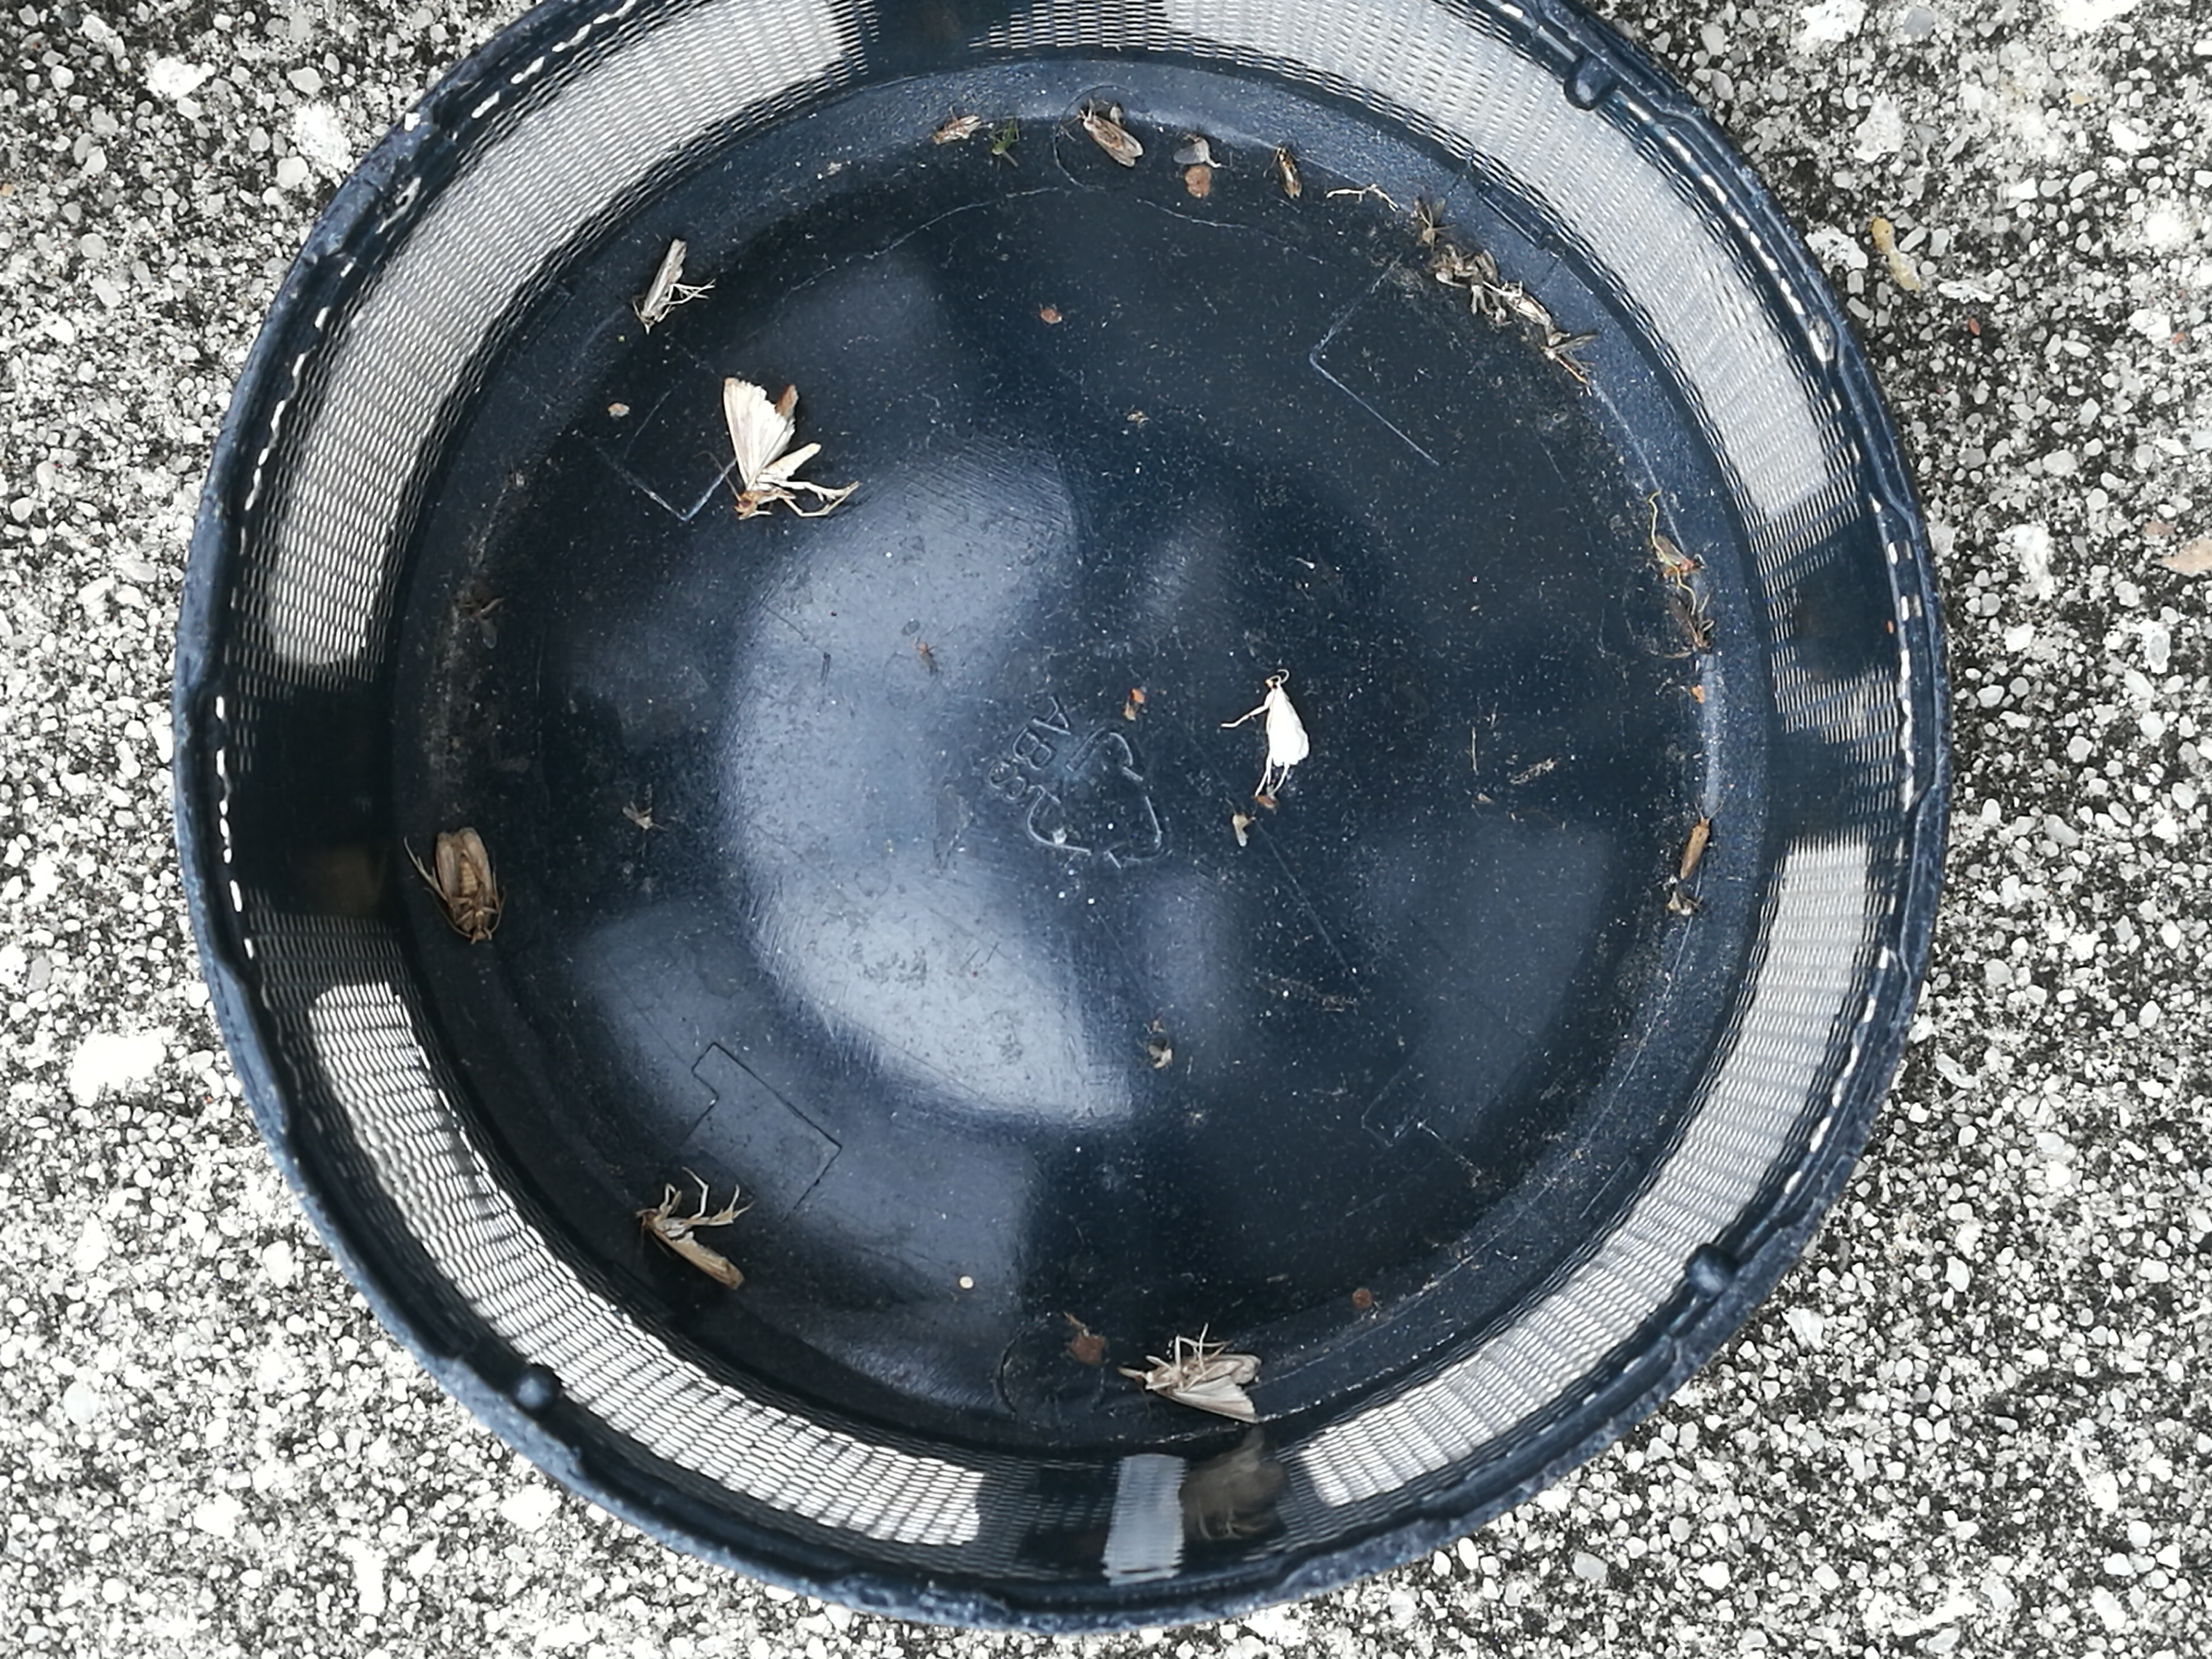mosquito: (641, 1209, 745, 1288), (643, 242, 681, 329), (1085, 113, 1144, 164), (1676, 816, 1710, 878), (934, 117, 977, 141)
moth: (723, 378, 822, 512), (1143, 1356, 1256, 1422), (434, 826, 493, 943), (1266, 676, 1310, 765)
